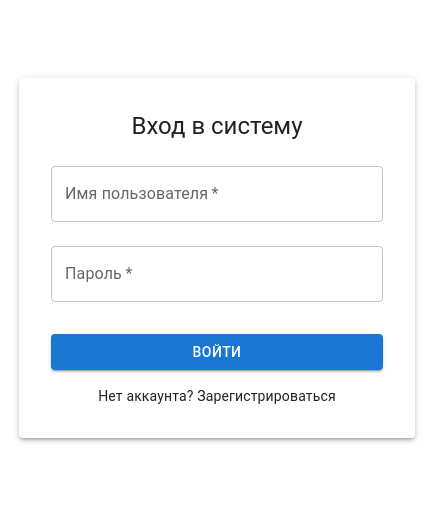
Авторизация пользователя › переход на страницу регистрации
// Нажимаем ссылку "Зарегистрироваться" - используем точный текст
Click the link "Нет аккаунта? Зарегистрироваться".
click(217, 396)  # box [98,388,336,404]
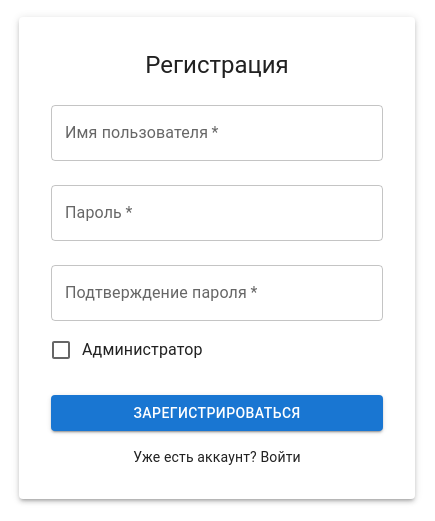
expect the heading "Регистрация" is shown: met, box [145,50,289,78]
